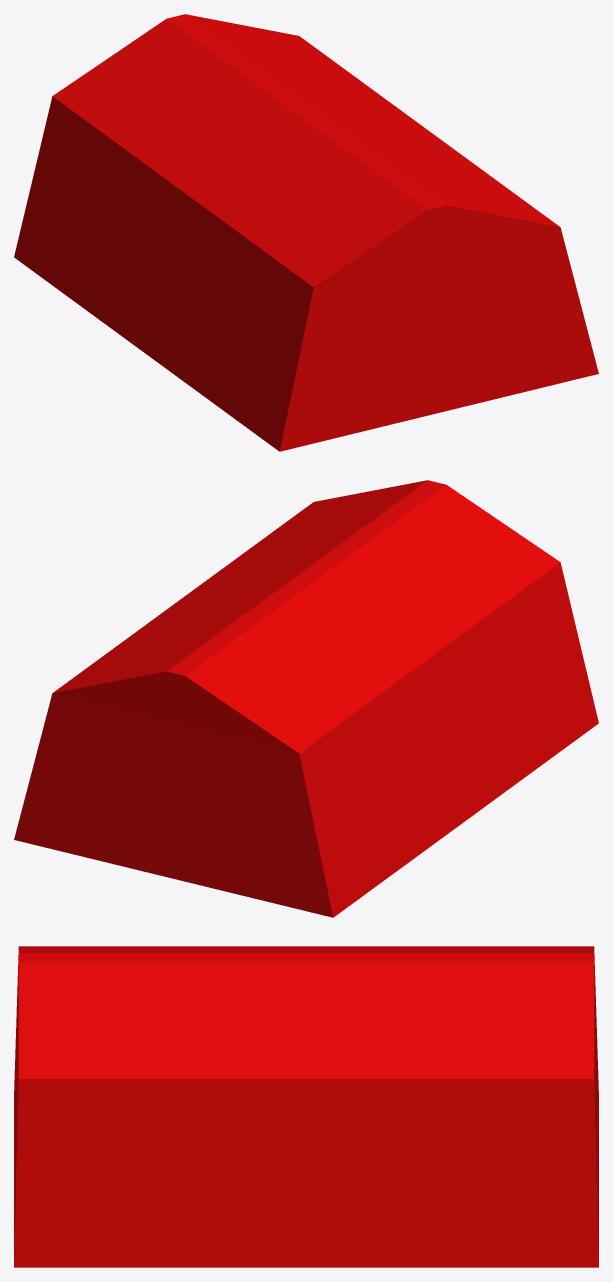
Rendered from SM_Bld_Quarantine_Tent_02_Collision.fbx.
3 views of the same model, one above another, from view 1: azimuth 30°, elevation 25°; view 2: azimuth 150°, elevation 25°; view 3: azimuth 270°, elevation 25° (orthographic). The views are drawn at different scales.
Parts seen in each view (by area): view 1: SM_Bld_Quarantine_Tent_02_Collision; view 2: SM_Bld_Quarantine_Tent_02_Collision; view 3: SM_Bld_Quarantine_Tent_02_Collision.
Part boxes in pixels (x1,y1,x2,y2): SM_Bld_Quarantine_Tent_02_Collision: (14,14,598,451); SM_Bld_Quarantine_Tent_02_Collision: (14,480,598,917); SM_Bld_Quarantine_Tent_02_Collision: (14,946,598,1267).
Bounding box in the file's own units: 522 × 318 × 752.
